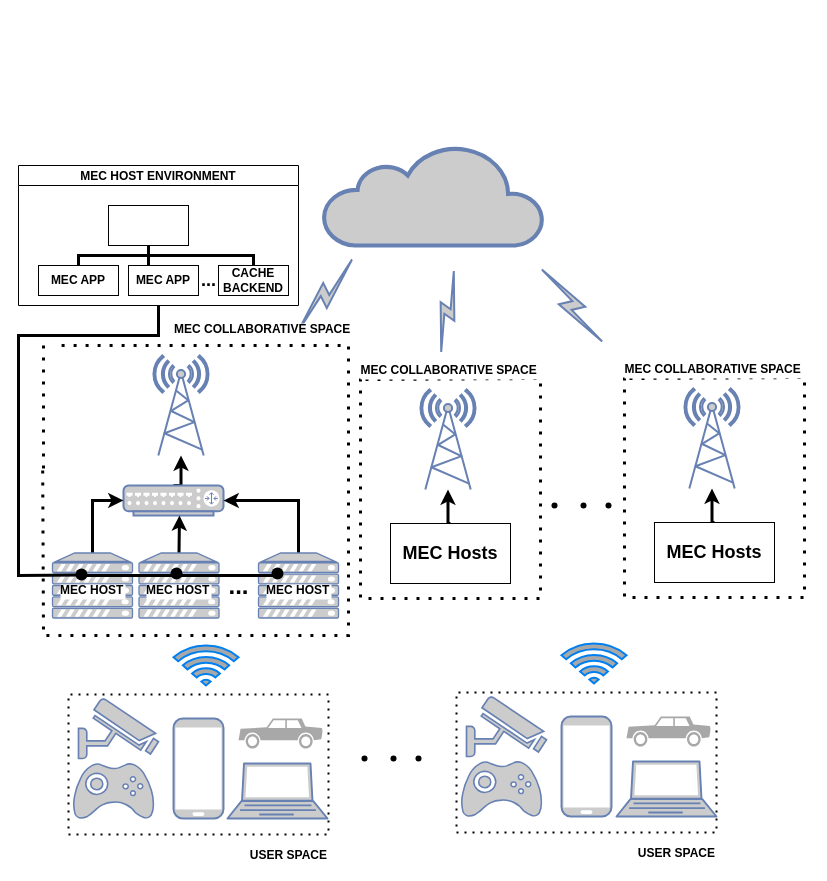
This 827x881 diagram has some shape labels left out. Here are the shapes that lost their labels. From the top down, the centre of each, then its label:
(x=433, y=195): CLOUD
(x=148, y=225): MEC Host Virtualization
